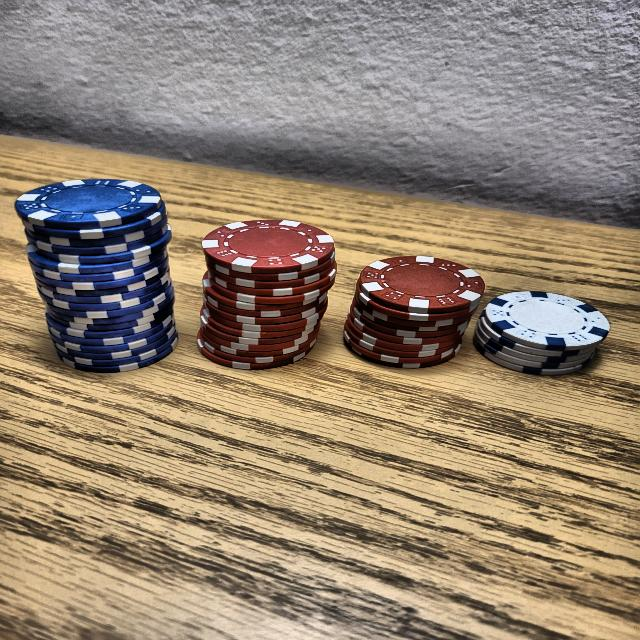Chip: (13, 168, 180, 390), (185, 204, 356, 383), (341, 230, 488, 387), (472, 279, 616, 403)
